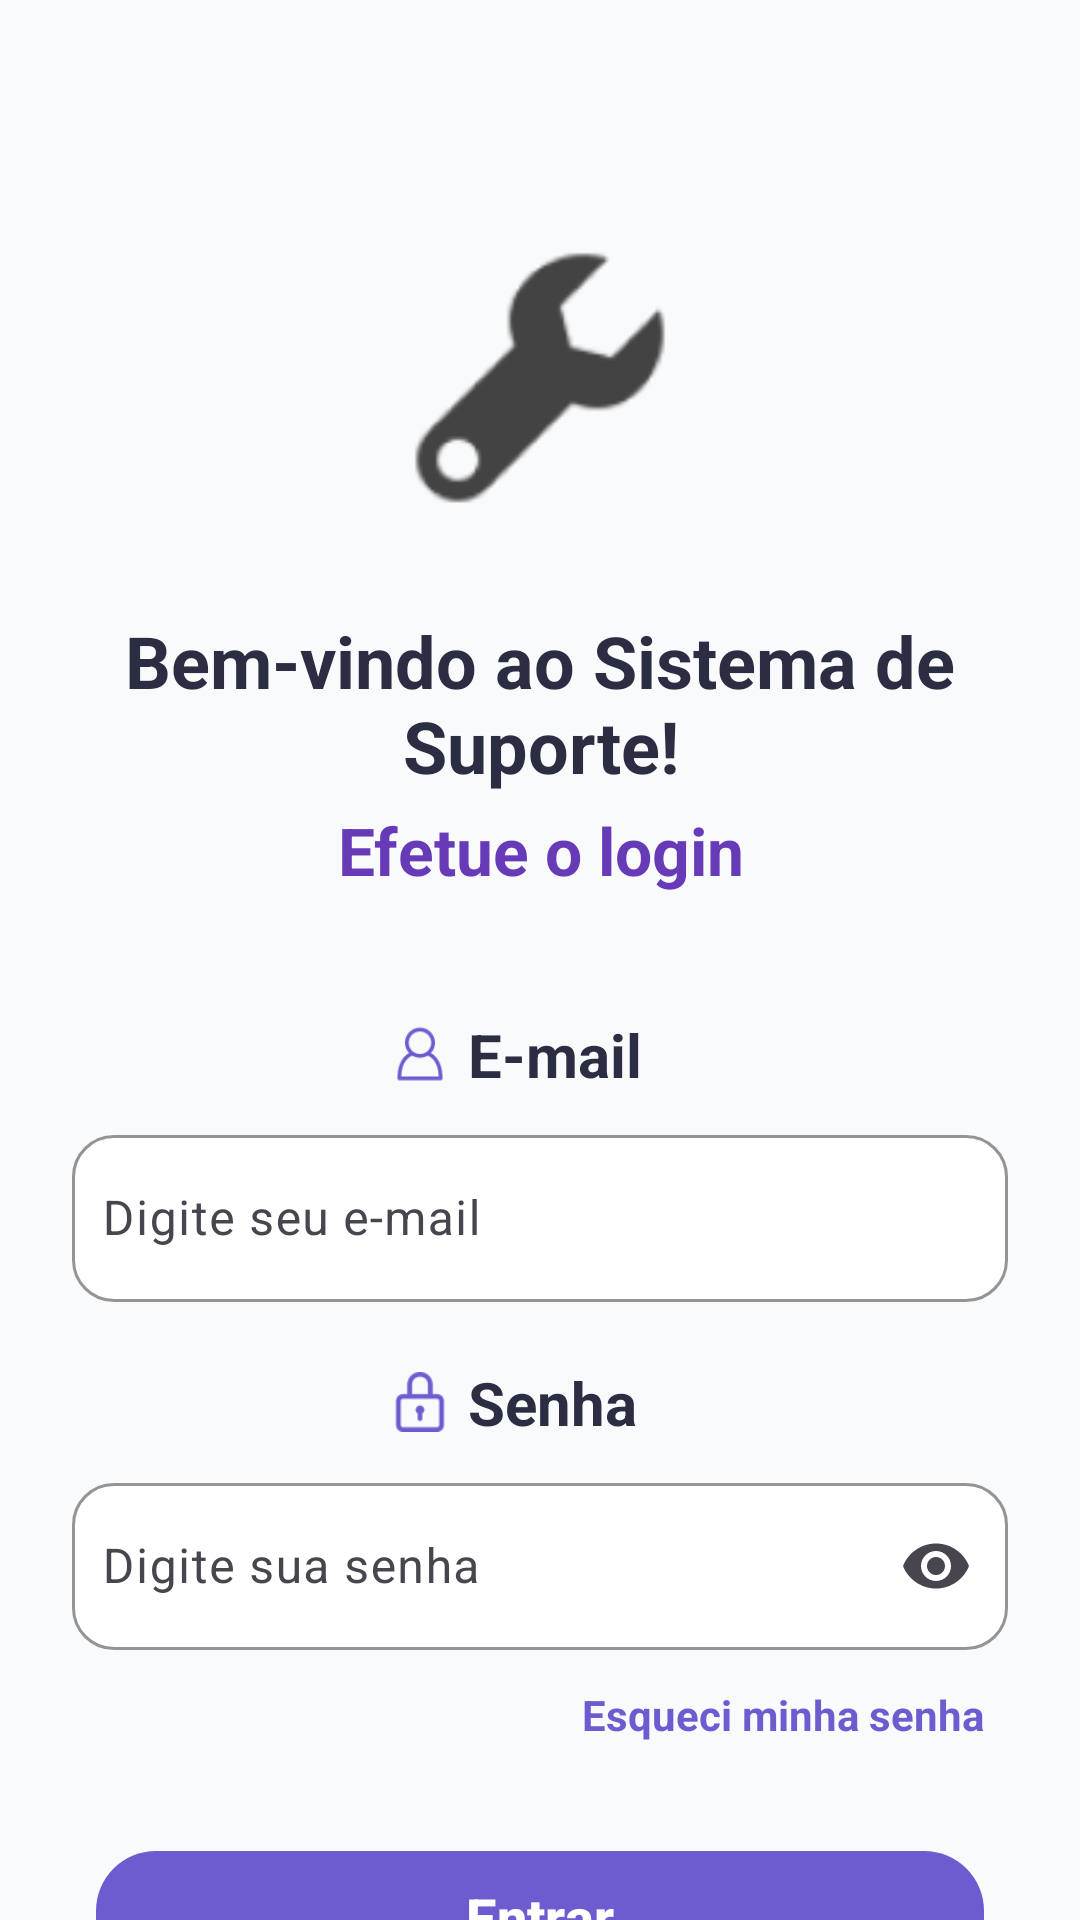

Point at icon controls on the screen. Image size 1080w x 1920h, points as (x,y).
lock: (420,1402)
